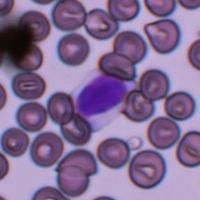L: (71, 72, 129, 123)
